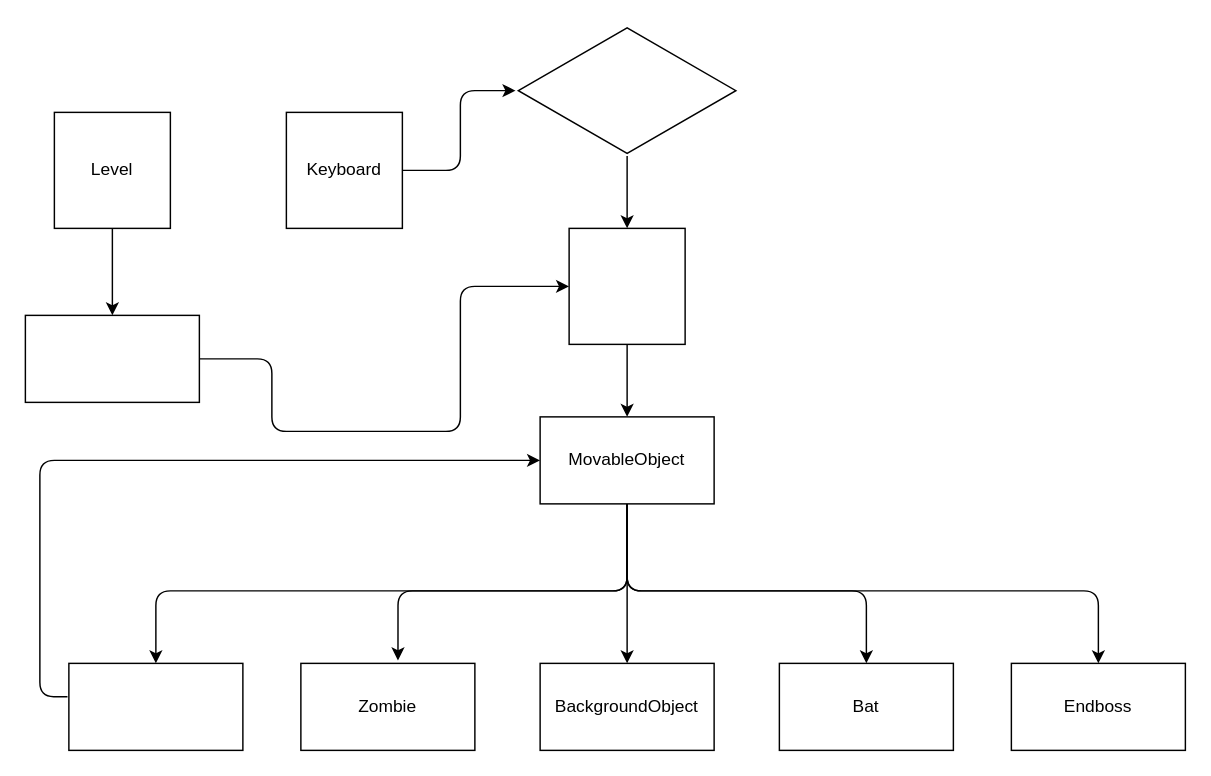
This 1211x776 diagram has some shape labels left out. Here are the shapes that lost their labels. From the top down, the centre of each, then its label:
[626,90]: game.js
[626,285]: World
[111,358]: level1.js
[155,706]: Character
